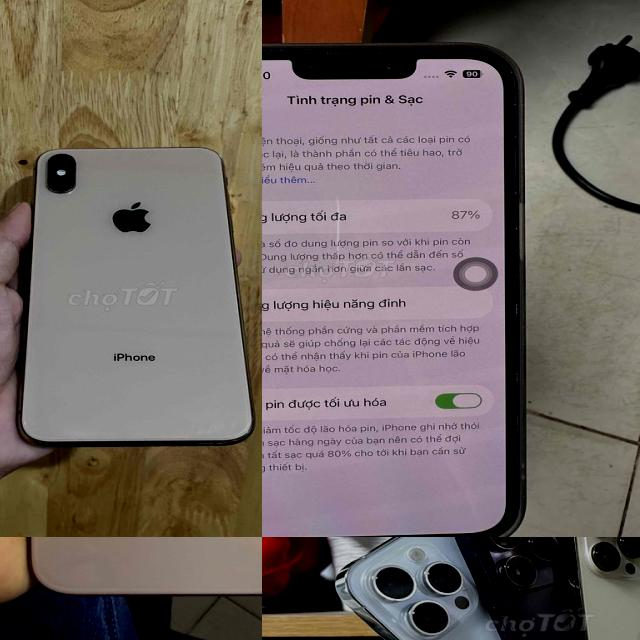gen_12_13: (262, 43, 537, 537)
gen_14: (553, 537, 640, 640)
gen_x_xs: (16, 148, 253, 446), (32, 537, 262, 594)
